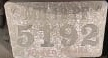character: (58, 23, 78, 46), (80, 23, 99, 47), (16, 24, 34, 47), (38, 23, 54, 48)
